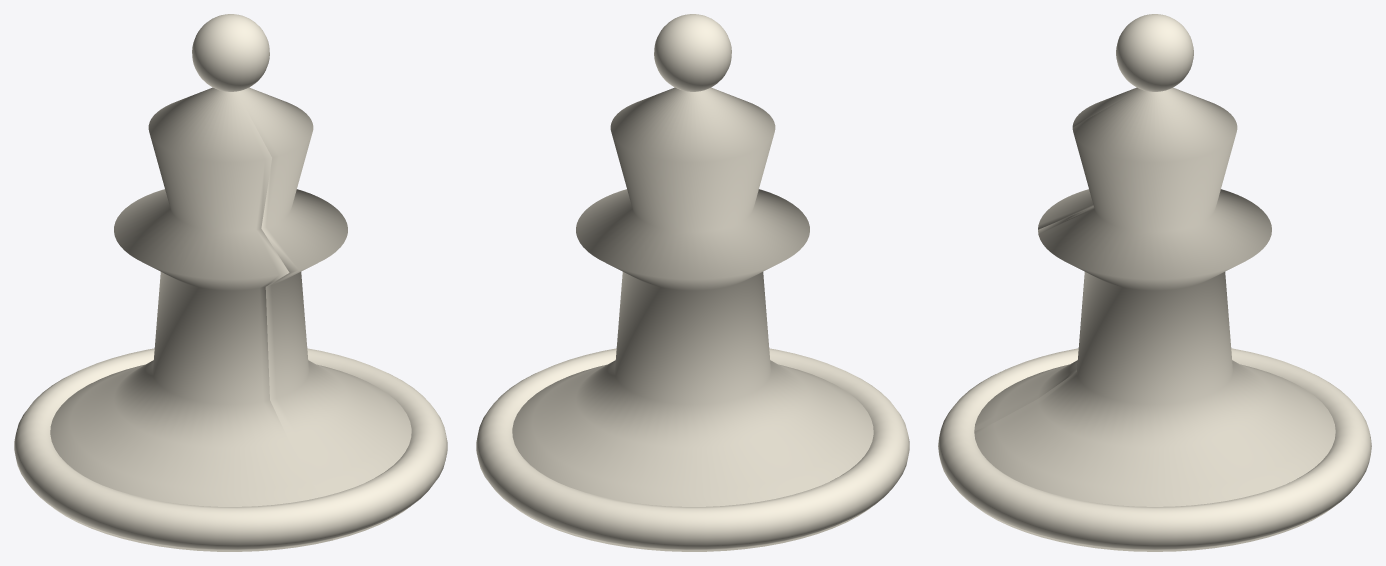
3 renders of one model, left to right at view 1: azimuth 30°, elevation 25°; view 2: azimuth 150°, elevation 25°; view 3: azimuth 270°, elevation 25°, orthographic.
Size of the model in its own units: 1 by 1.14 by 1.
